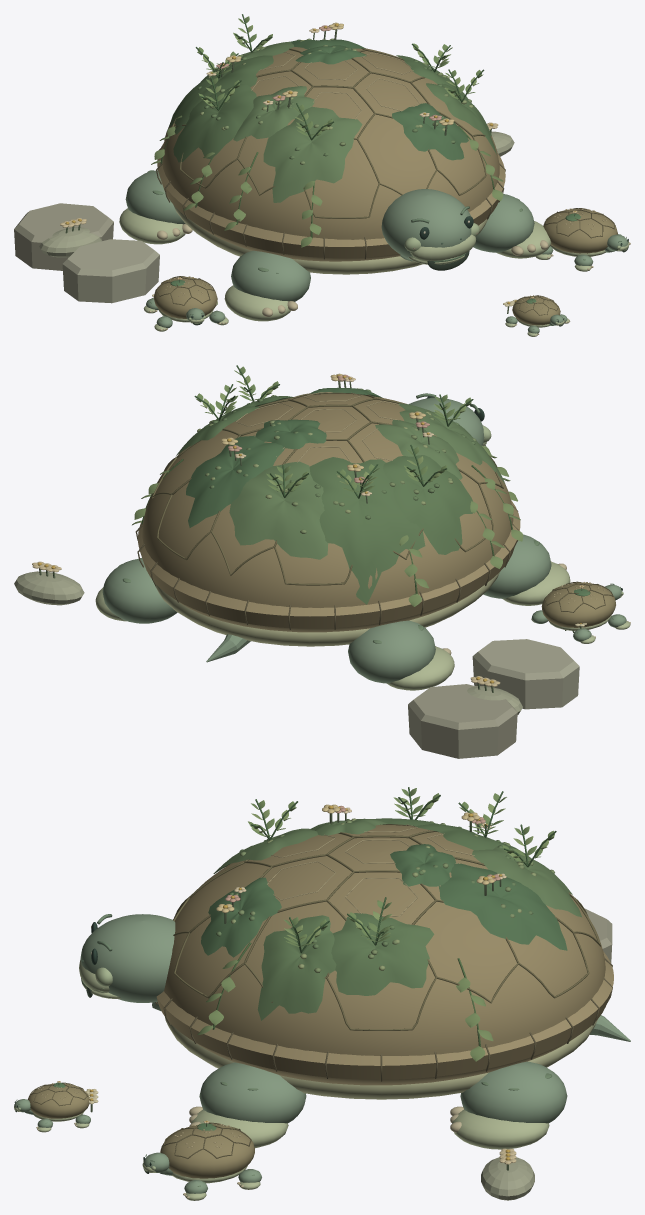
Rendered from tortoise-garden.glb.
The picture shows the model from 3 angles, top to bottom: view 1: azimuth 30°, elevation 25°; view 2: azimuth 150°, elevation 25°; view 3: azimuth 270°, elevation 25°; orthographic projection. The views are drawn at different scales.
Parts seen in each view (by area): view 1: tortoise_Shell_Mesh, tortoise-garden_Architecture_Mesh, tortoise_Head_Mesh, Flipper.001_Mesh, Flipper_Mesh, Flipper.003_Mesh, tortoise_Baby1_Body_Mesh, tortoise_Baby0_Body_Mesh, tortoise_Baby2_Body_Mesh; view 2: tortoise_Shell_Mesh, tortoise-garden_Architecture_Mesh, Flipper_Mesh, Flipper.001_Mesh, Flipper.002_Mesh, tortoise_Baby0_Body_Mesh, tortoise_Head_Mesh; view 3: tortoise_Shell_Mesh, Flipper.002_Mesh, tortoise_Head_Mesh, Flipper.003_Mesh, tortoise_Baby1_Body_Mesh, tortoise-garden_Architecture_Mesh, tortoise_Baby2_Body_Mesh.
Part boxes in pixels (left/top/right/bottom): tortoise_Shell_Mesh: left=151, top=14, right=505, bottom=274; tortoise-garden_Architecture_Mesh: left=14, top=122, right=516, bottom=313; tortoise_Head_Mesh: left=381, top=189, right=479, bottom=261; Flipper.001_Mesh: left=224, top=250, right=310, bottom=321; Flipper_Mesh: left=119, top=170, right=192, bottom=244; Flipper.003_Mesh: left=473, top=194, right=551, bottom=258; tortoise_Baby1_Body_Mesh: left=543, top=208, right=617, bottom=256; tortoise_Baby0_Body_Mesh: left=153, top=276, right=217, bottom=322; tortoise_Baby2_Body_Mesh: left=512, top=295, right=560, bottom=327; tortoise_Shell_Mesh: left=132, top=365, right=523, bottom=646; tortoise-garden_Architecture_Mesh: left=14, top=561, right=586, bottom=758; Flipper_Mesh: left=348, top=620, right=454, bottom=690; Flipper.001_Mesh: left=483, top=534, right=570, bottom=605; Flipper.002_Mesh: left=95, top=558, right=177, bottom=623; tortoise_Baby0_Body_Mesh: left=541, top=581, right=615, bottom=630; tortoise_Head_Mesh: left=409, top=393, right=491, bottom=446; tortoise_Shell_Mesh: left=155, top=787, right=613, bottom=1099; Flipper.002_Mesh: left=450, top=1061, right=567, bottom=1149; tortoise_Head_Mesh: left=79, top=914, right=175, bottom=1011; Flipper.003_Mesh: left=189, top=1062, right=306, bottom=1148; tortoise_Baby1_Body_Mesh: left=160, top=1120, right=254, bottom=1183; tortoise-garden_Architecture_Mesh: left=85, top=908, right=630, bottom=1200; tortoise_Baby2_Body_Mesh: left=27, top=1081, right=89, bottom=1121.
Bounding box in the file's own units: 9.12 × 3.61 × 8.3.
